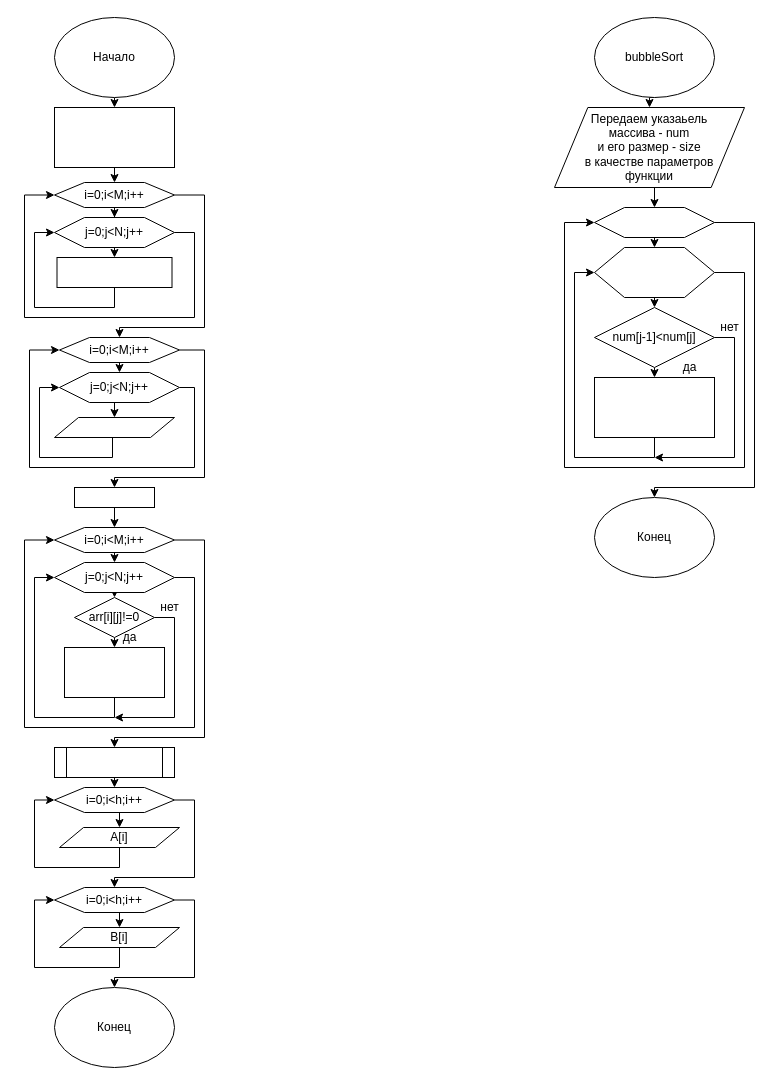
Some shapes in this 780 by 1085 pixel diagram are drawn without their labels. Here are the shapes that lost their labels. From the top down, the centre of each, then its label:
At pixel 114 137: "M=8 N=5 arr[M][N],A[M*N],B[M*N]".
At pixel 654 222: "i=0; i<size; i++".
At pixel 114 272: "arr[i][j]=rand()%10-1".
At pixel 654 272: "j=(size-1); j>i; j--".
At pixel 114 427: "arr[i][j]".
At pixel 654 407: "temp = num[j-1] num[j-1]=num[j] num[j]=temp".
At pixel 114 497: "h=0".
At pixel 114 672: "A[h]=arr[i][j] B[h]=arr[i][j] h++".
At pixel 114 762: "bubbleSort(B,h)".
